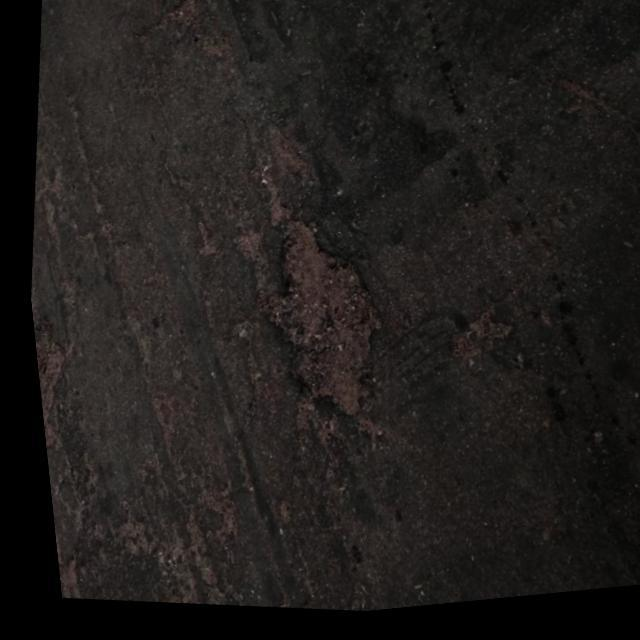pothole: (188, 175, 416, 464), (26, 306, 100, 471)
